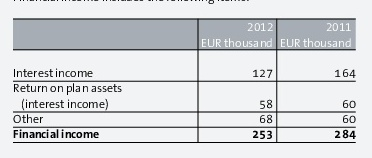table: (0, 0, 372, 158)
